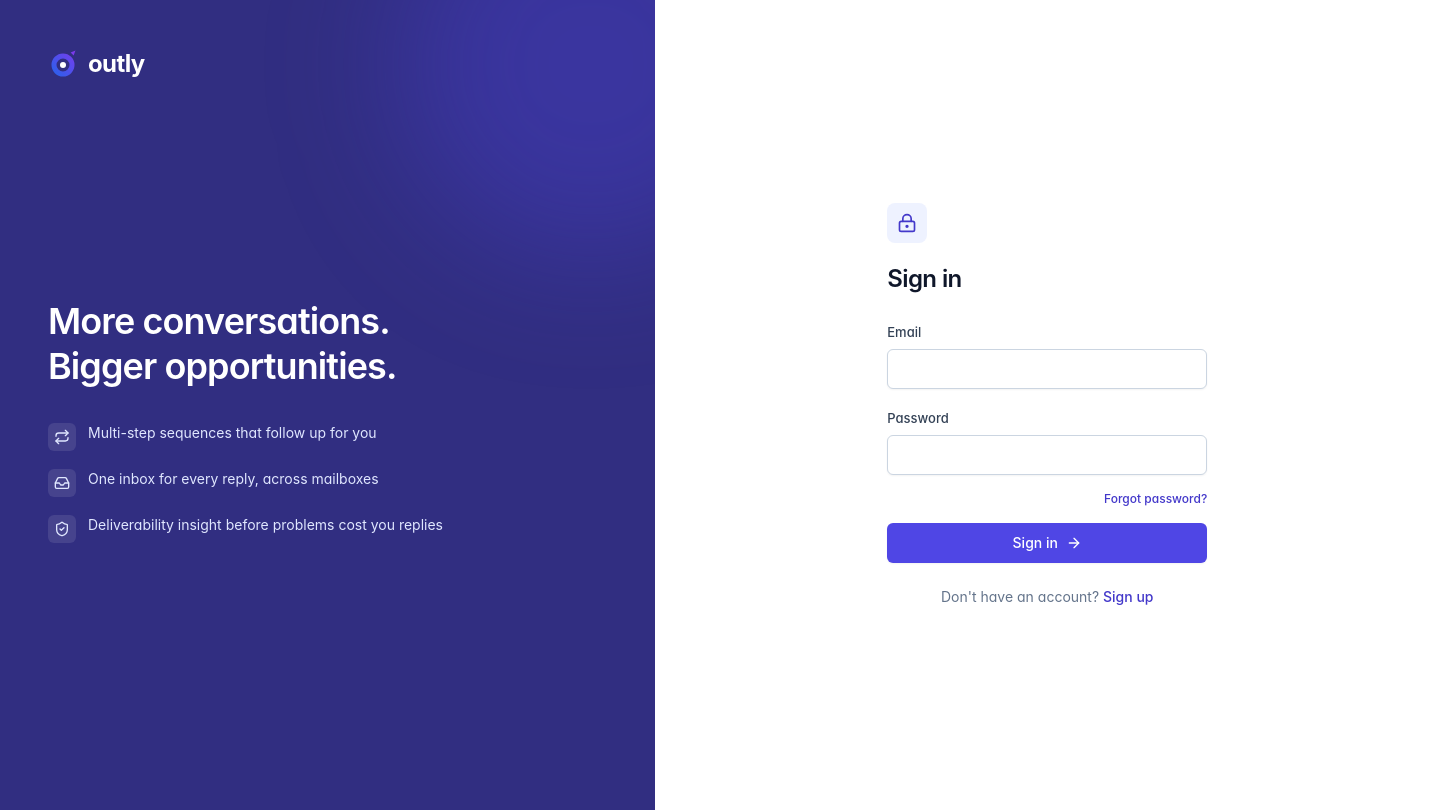
LoginPage › does not enter the app when Supabase fails to persist the session
Type "user@example.com" into the field labelled "Email" at (1047, 369), box [887, 349, 1207, 389]
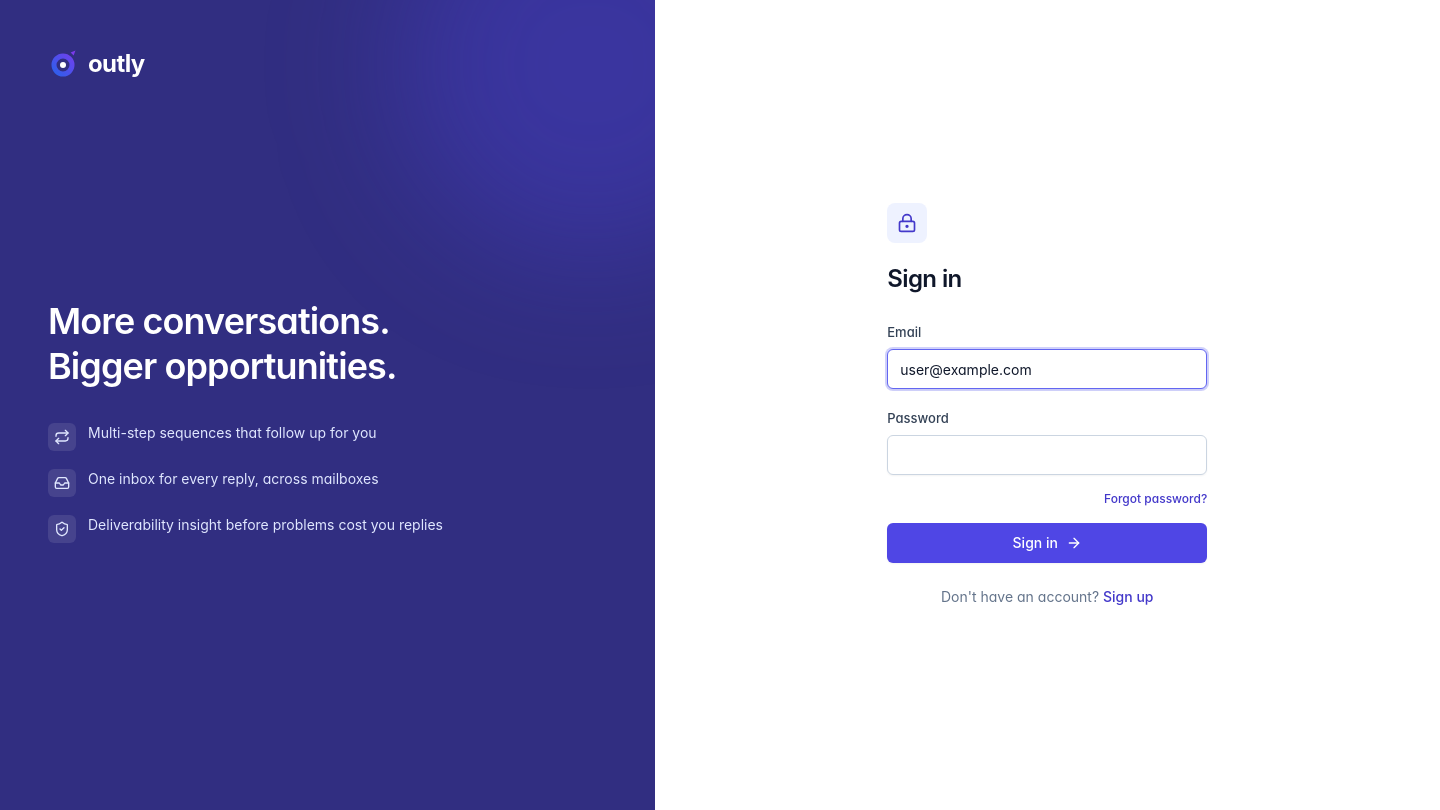
Type "correct-password" into the password field labelled "Password" at (1047, 455), box [887, 435, 1207, 475]
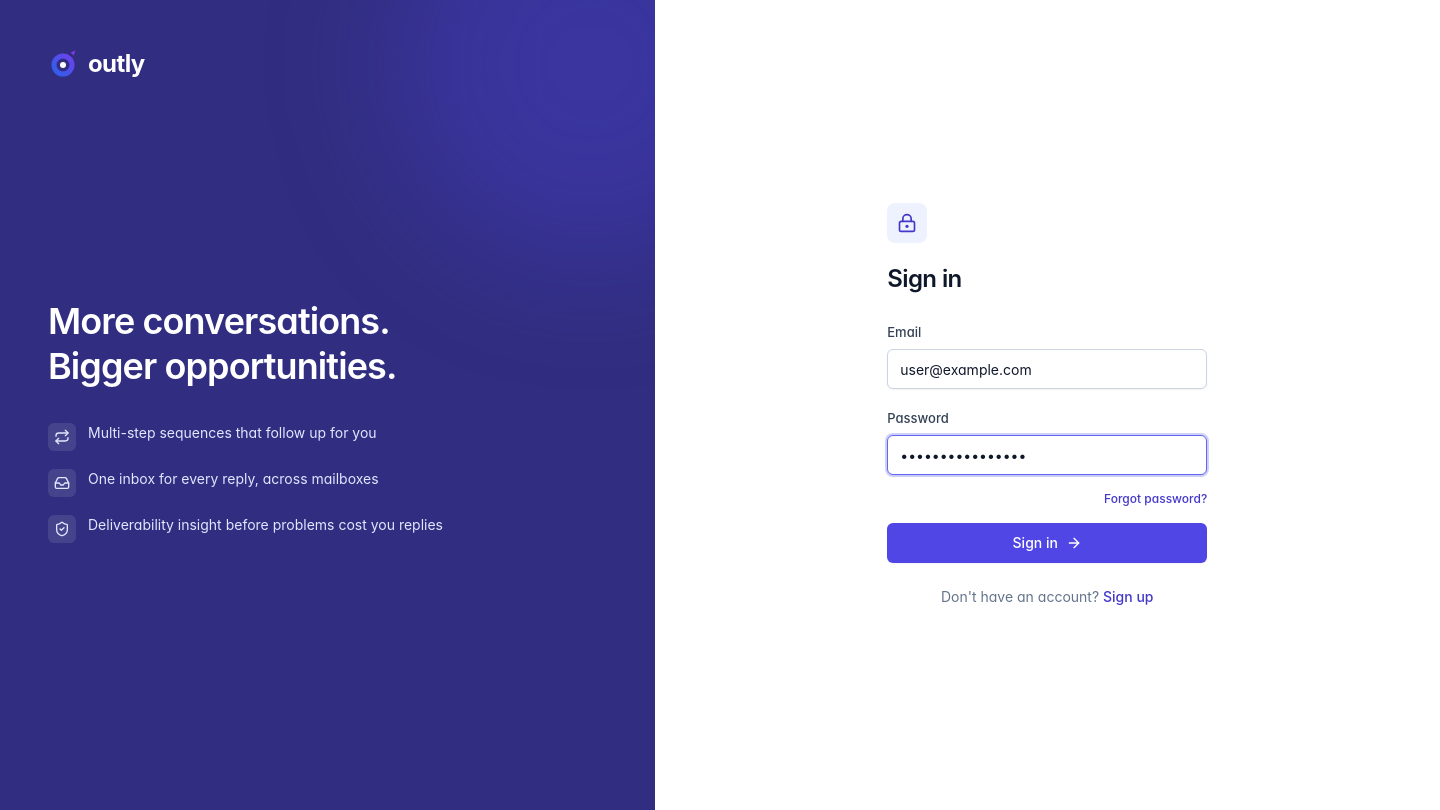
Click the button "Sign in" at (1047, 543), box [887, 523, 1207, 563]
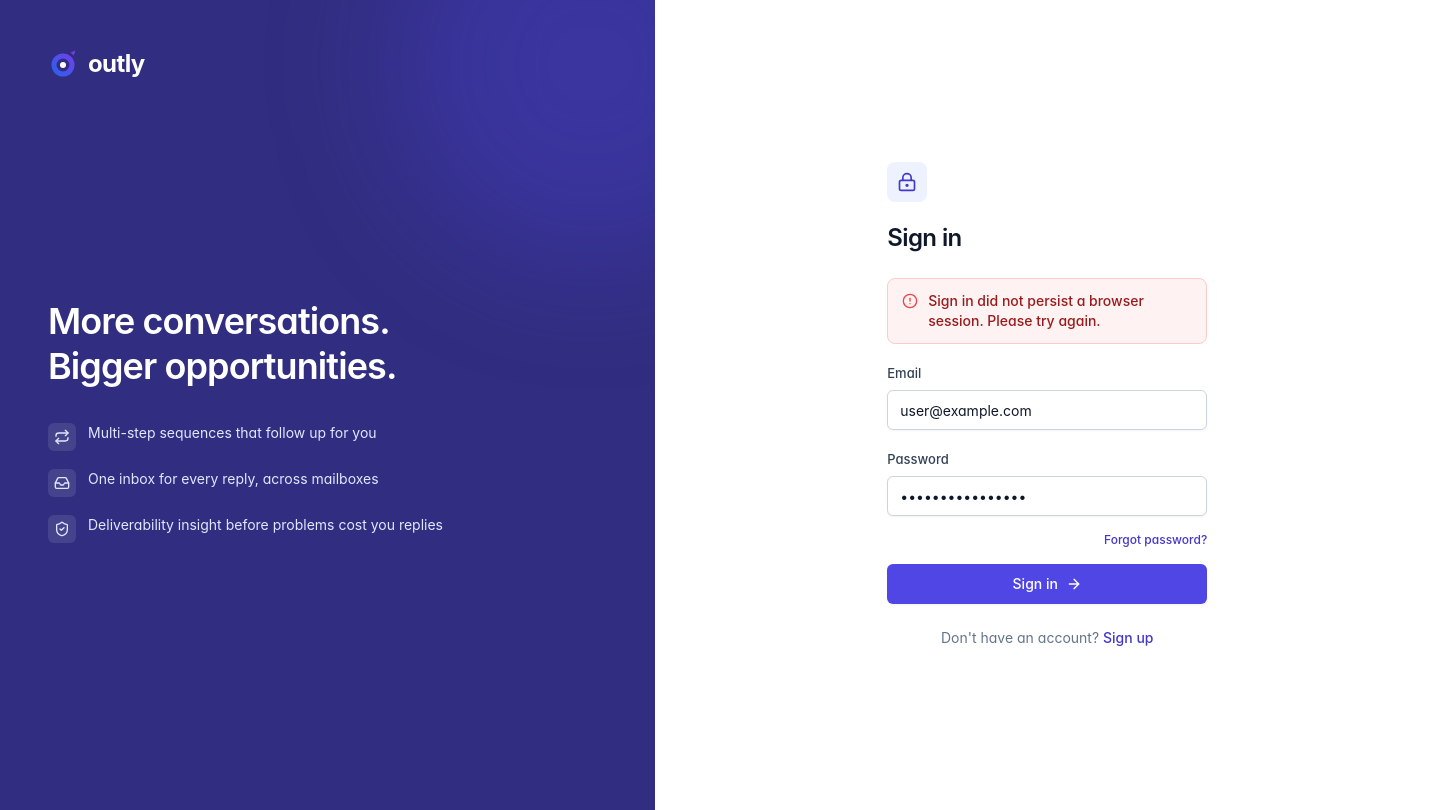
Check: the text "Sign in did not persist a browser session. Please try again." is shown, box [928, 292, 1144, 329]
